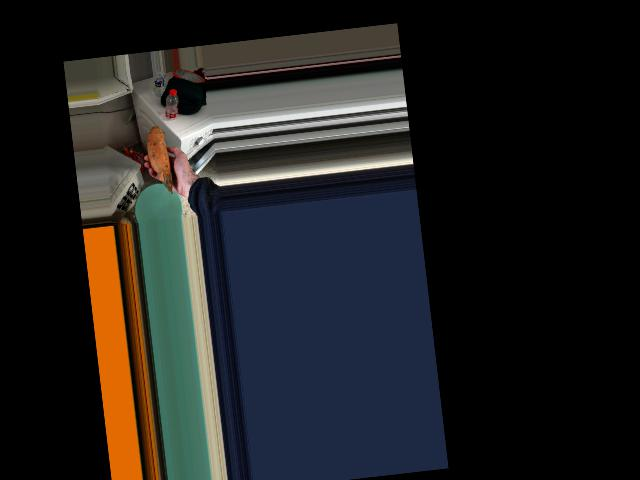sweet_potato: (142, 128, 170, 203)
